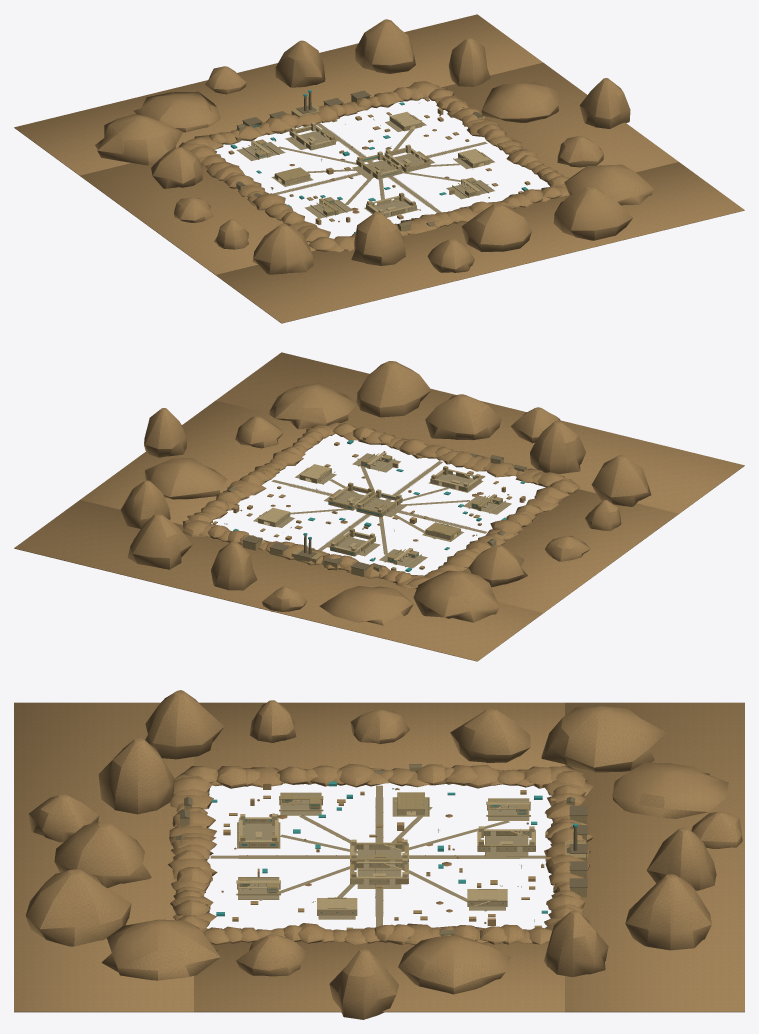
The model's file is sakyuu-lod1.glb.
The picture shows the model from 3 angles, top to bottom: view 1: azimuth 30°, elevation 25°; view 2: azimuth 150°, elevation 25°; view 3: azimuth 270°, elevation 25°; orthographic projection. The views are drawn at different scales.
Visible parts, largest first — view 1: HB_sakyuu_LOD1_terrain, HB_sakyuu_LOD1_road, HB_sakyuu_LOD1_wall, HB_sakyuu_LOD1_wall_alt, HB_sakyuu_LOD1_trim, HB_sakyuu_LOD1_obstacle; view 2: HB_sakyuu_LOD1_terrain, HB_sakyuu_LOD1_road, HB_sakyuu_LOD1_wall_alt, HB_sakyuu_LOD1_wall, HB_sakyuu_LOD1_trim, HB_sakyuu_LOD1_obstacle; view 3: HB_sakyuu_LOD1_terrain, HB_sakyuu_LOD1_road, HB_sakyuu_LOD1_wall, HB_sakyuu_LOD1_wall_alt, HB_sakyuu_LOD1_trim, HB_sakyuu_LOD1_obstacle, HB_sakyuu_LOD1_accent.
Part boxes in pixels (x1,y1,x2,y2): HB_sakyuu_LOD1_terrain: (14, 14, 744, 323); HB_sakyuu_LOD1_road: (236, 118, 493, 217); HB_sakyuu_LOD1_wall: (242, 112, 490, 217); HB_sakyuu_LOD1_wall_alt: (236, 95, 494, 231); HB_sakyuu_LOD1_trim: (236, 90, 482, 226); HB_sakyuu_LOD1_obstacle: (228, 98, 530, 224); HB_sakyuu_LOD1_terrain: (14, 352, 744, 661); HB_sakyuu_LOD1_road: (254, 454, 510, 567); HB_sakyuu_LOD1_wall_alt: (226, 453, 526, 576); HB_sakyuu_LOD1_wall: (258, 452, 505, 567); HB_sakyuu_LOD1_trim: (224, 452, 526, 570); HB_sakyuu_LOD1_obstacle: (212, 436, 525, 570); HB_sakyuu_LOD1_terrain: (14, 690, 744, 1019); HB_sakyuu_LOD1_road: (210, 785, 546, 927); HB_sakyuu_LOD1_wall: (236, 796, 535, 915); HB_sakyuu_LOD1_wall_alt: (180, 767, 586, 936); HB_sakyuu_LOD1_trim: (175, 764, 587, 938); HB_sakyuu_LOD1_obstacle: (203, 782, 555, 930); HB_sakyuu_LOD1_accent: (211, 781, 577, 916).
Size of the model in its own units: 704 by 61.38 by 690.
9 materials, 8 textured.
